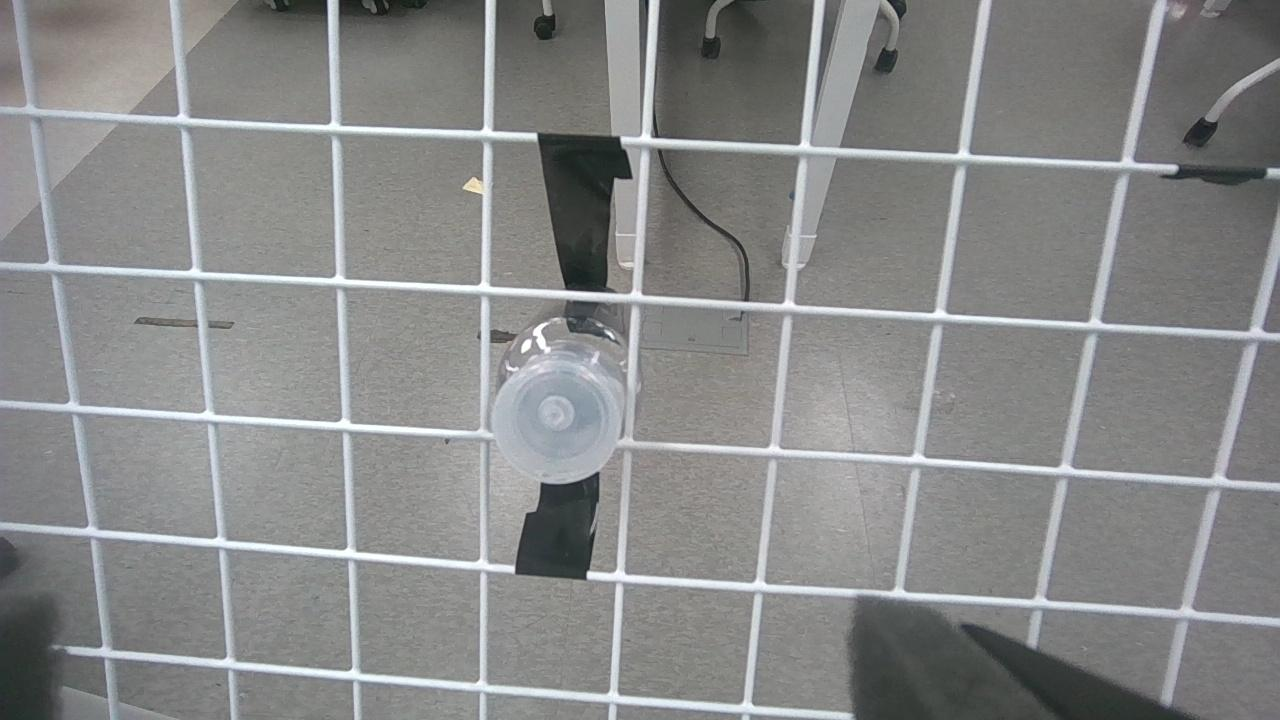Cap: (494, 362, 621, 480)
